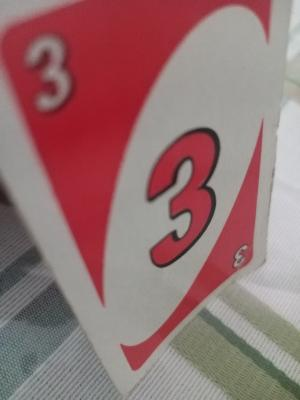num_3: (138, 123, 224, 275), (17, 26, 81, 126)
